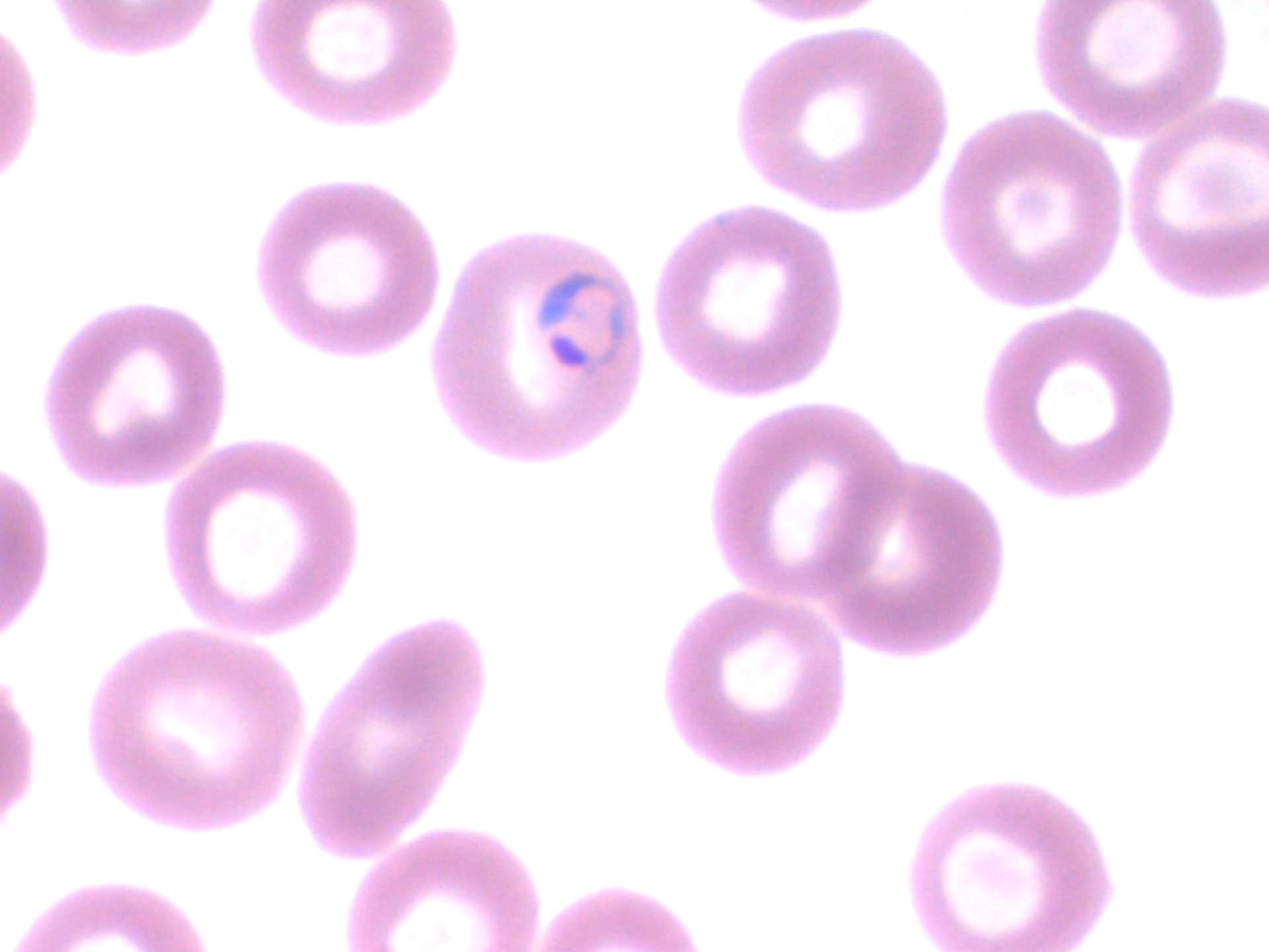Infected: (430, 230, 640, 461)
Uninfected: (84, 631, 308, 833), (304, 617, 485, 862), (736, 29, 944, 216), (714, 399, 900, 604), (652, 201, 845, 395), (820, 459, 1000, 663), (985, 311, 1174, 502), (939, 109, 1121, 307), (663, 587, 849, 780), (167, 443, 352, 629), (910, 780, 1109, 952), (44, 302, 225, 491), (258, 184, 444, 360), (1128, 98, 1269, 297), (1033, 0, 1226, 143), (249, 0, 460, 128), (346, 831, 546, 952)
